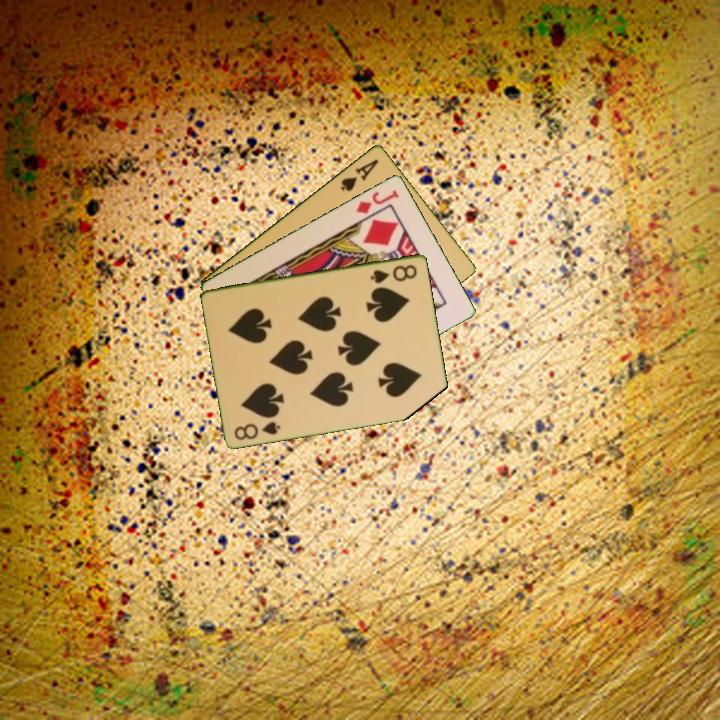8s: (367, 261, 420, 286), (231, 418, 283, 443)
As: (336, 155, 382, 194)
Jd: (352, 185, 402, 216)
